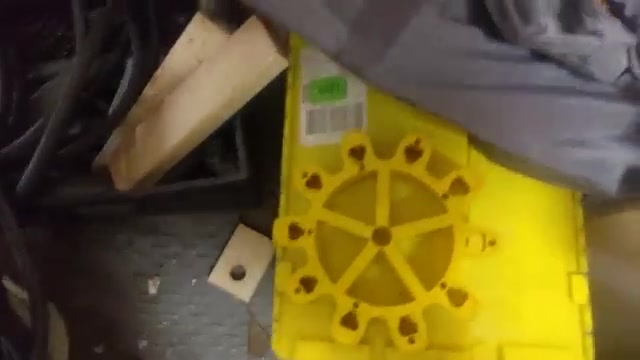gear: (259, 113, 513, 360)
